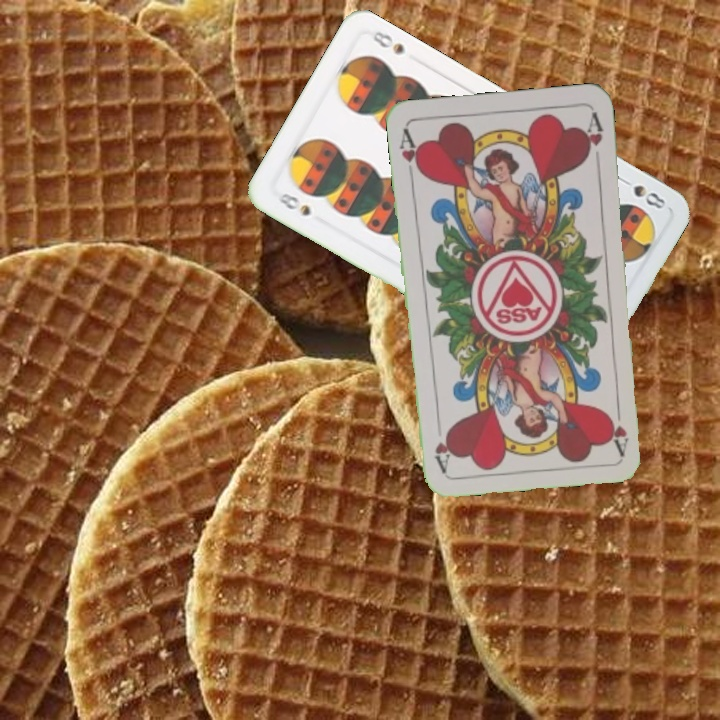HA: (395, 125, 425, 184), (606, 397, 632, 456)
S8: (615, 173, 668, 212), (271, 189, 313, 219)
